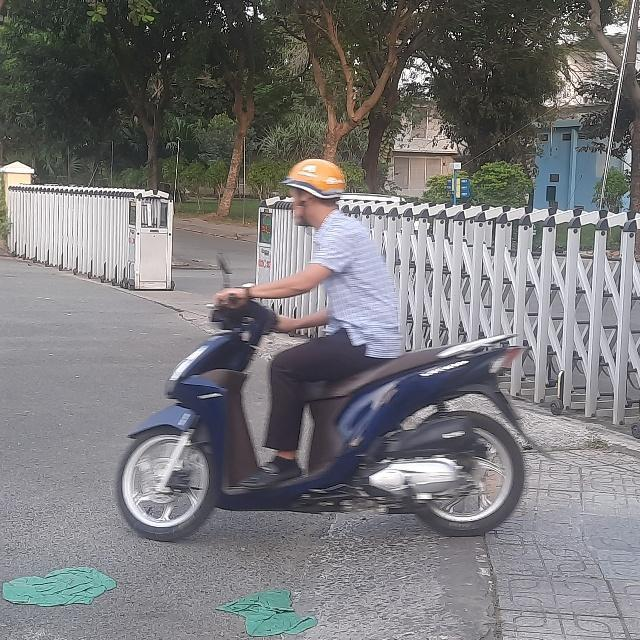Helmet: (285, 156, 347, 234)
